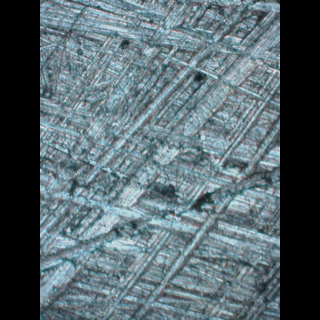d: (44, 51, 280, 319)
